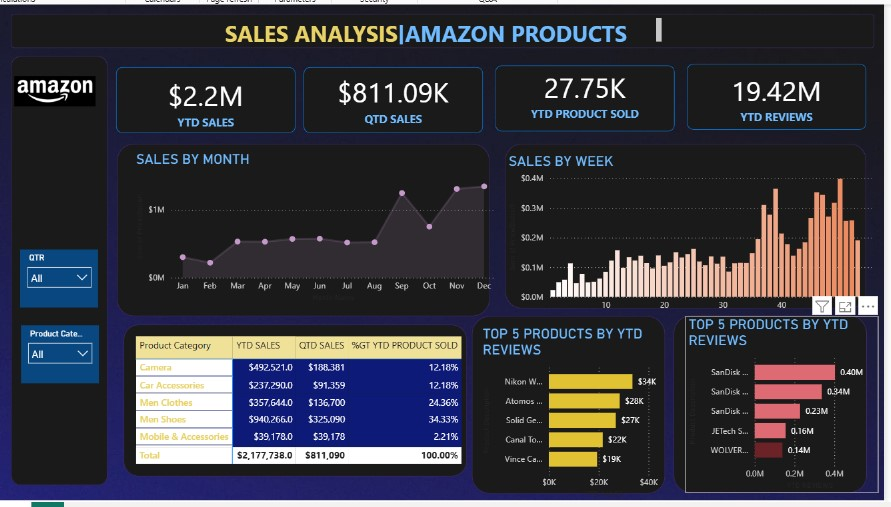

The dashboard page shown, as its layout file describes it:
{"tool":"powerbi","page":{"name":"Page 1","canvas":[1280,720],"ordinal":0},"visuals":[{"type":"shape","box":[15.7,12.9,1250,50],"z":0},{"type":"textbox","box":[321.4,14.3,641.4,48.6],"z":1000},{"type":"shape","box":[15.7,74.3,140,621.4],"z":2000},{"type":"shape","box":[167.1,90,260,95.7],"z":3000},{"type":"card","fields":{"Values":["Amazon_Data.YTD SALES"]},"box":[167.1,97.1,260,88.6],"z":4000},{"type":"shape","box":[717.1,88.6,260,95.7],"z":5000},{"type":"shape","box":[994.3,86,260,95.7],"z":6000},{"type":"shape","box":[438.6,90,260,95.7],"z":7000},{"type":"card","fields":{"Values":["Amazon_Data.QTD SALES"]},"box":[438.6,92.9,260,88.6],"z":8000},{"type":"card","fields":{"Values":["Amazon_Data.YTD PRODUCT SOLD"]},"box":[717.1,85.7,260,88.6],"z":9000},{"type":"card","fields":{"Values":["Amazon_Data.YTD REVIEWS"]},"box":[994.3,90,260,88.6],"z":10000},{"type":"shape","box":[168.6,201.4,540,250],"z":11000},{"type":"areaChart","title":"SALES BY MONTH","fields":{"Category":["Date Table.Month Name"],"Y":["Sum(Amazon_Data.Price(Dollar))"]},"box":[191.4,211.4,530,224.3],"z":12000},{"type":"shape","box":[731.4,201.4,522.9,238.6],"z":13000},{"type":"columnChart","title":"SALES BY WEEK","fields":{"Category":["Date Table.WEEK NUM"],"Y":["Sum(Amazon_Data.Price(Dollar))"]},"box":[731.4,214.3,540,248.6],"z":14000},{"type":"shape","box":[178.6,462.9,497.1,220],"z":15000},{"type":"pivotTable","fields":{"Rows":["Amazon_Data.Product Category"],"Values":["Amazon_Data.YTD SALES","Amazon_Data.QTD SALES","Amazon_Data.YTD PRODUCT SOLD"]},"box":[191.4,475.7,540,194.3],"z":16000},{"type":"shape","box":[682.9,451.4,280,257.1],"z":17000},{"type":"shape","box":[974.3,450,280,257.1],"z":18000},{"type":"barChart","title":"TOP 5 PRODUCTS BY YTD REVIEWS","fields":{"Category":["Amazon_Data.Product Description"],"Y":["Amazon_Data.YTD SALES"]},"box":[694.3,464.3,280,255.7],"z":19000},{"type":"barChart","title":"TOP 5 PRODUCTS BY YTD REVIEWS","fields":{"Category":["Amazon_Data.Product Description"],"Y":["Amazon_Data.YTD REVIEWS"]},"box":[991.4,451.4,280,255.7],"z":20000},{"type":"slicer","fields":{"Values":["Amazon_Data.Product Category"]},"box":[30,464.3,112.9,84.3],"z":21000},{"type":"slicer","fields":{"Values":["Date Table.QTR"]},"box":[28.6,354.3,112.9,84.3],"z":22000},{"type":"image","box":[15.7,38.6,127.1,172.9],"z":23000}]}

Visuals, with their boxes on the page's 1280x720 design canvas (x1, y1, x2, y2). These are canvas units, not pixel positions in the 891x507 screenshot, which may show the page scaled, cropped or inside an application window:
shape: bbox=[16, 13, 1266, 63]
textbox: bbox=[321, 14, 963, 63]
shape: bbox=[16, 74, 156, 696]
shape: bbox=[167, 90, 427, 186]
card - Amazon_Data.YTD SALES: bbox=[167, 97, 427, 186]
shape: bbox=[717, 89, 977, 184]
shape: bbox=[994, 86, 1254, 182]
shape: bbox=[439, 90, 699, 186]
card - Amazon_Data.QTD SALES: bbox=[439, 93, 699, 182]
card - Amazon_Data.YTD PRODUCT SOLD: bbox=[717, 86, 977, 174]
card - Amazon_Data.YTD REVIEWS: bbox=[994, 90, 1254, 179]
shape: bbox=[169, 201, 709, 451]
"SALES BY MONTH" areaChart: bbox=[191, 211, 721, 436]
shape: bbox=[731, 201, 1254, 440]
"SALES BY WEEK" columnChart: bbox=[731, 214, 1271, 463]
shape: bbox=[179, 463, 676, 683]
pivotTable - Amazon_Data.Product Category x Amazon_Data.YTD SALES: bbox=[191, 476, 731, 670]
shape: bbox=[683, 451, 963, 708]
shape: bbox=[974, 450, 1254, 707]
"TOP 5 PRODUCTS BY YTD REVIEWS" barChart: bbox=[694, 464, 974, 720]
"TOP 5 PRODUCTS BY YTD REVIEWS" barChart: bbox=[991, 451, 1271, 707]
slicer - Amazon_Data.Product Category: bbox=[30, 464, 143, 549]
slicer - Date Table.QTR: bbox=[29, 354, 142, 439]
image: bbox=[16, 39, 143, 212]
